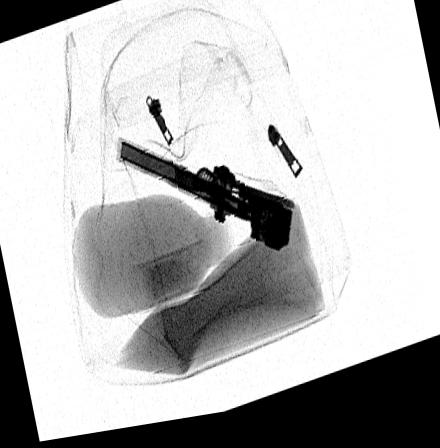Pliers: (117, 142, 293, 264)
